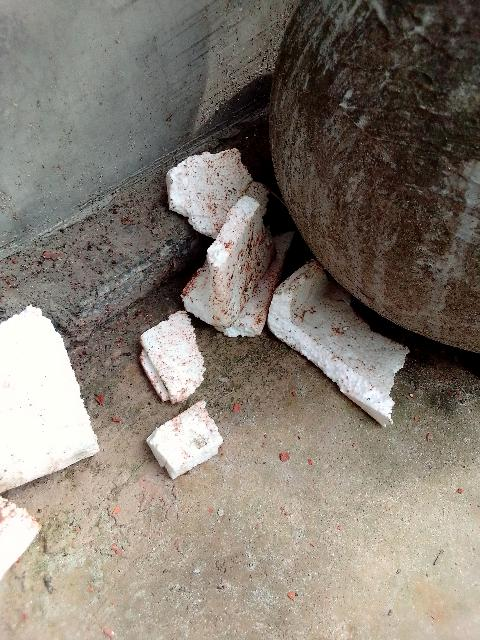cocksheet: (142, 127, 332, 351), (0, 300, 112, 486), (281, 279, 428, 418)
